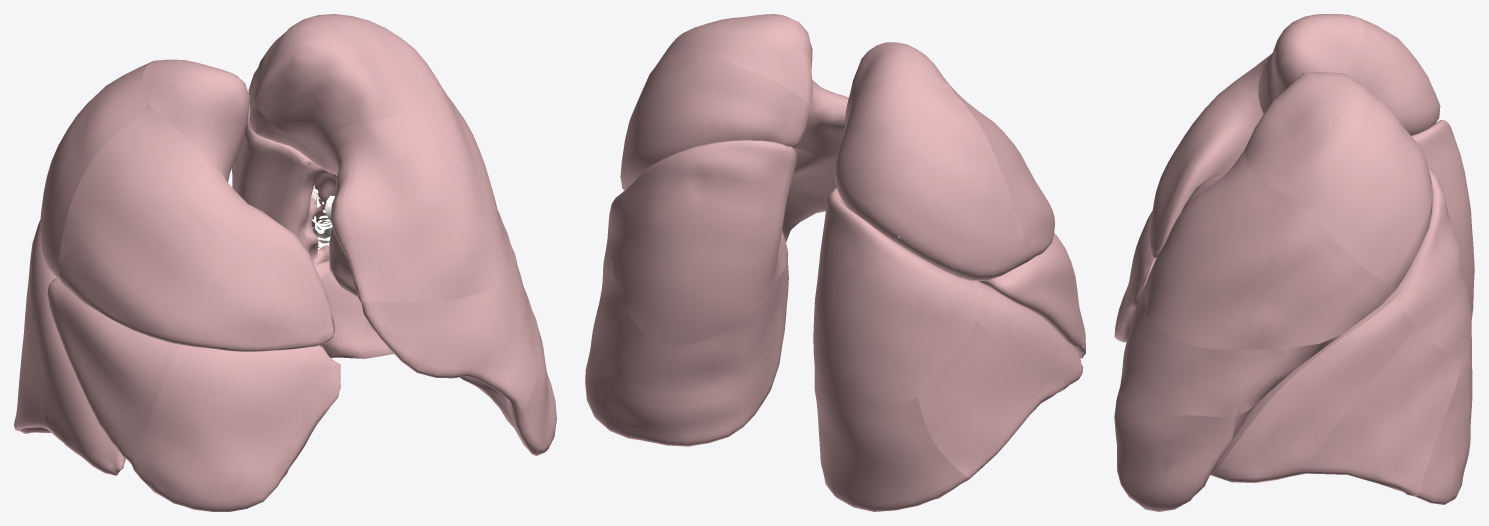
File: lung.glb
3 views of the same model, side by side, from view 1: azimuth 30°, elevation 25°; view 2: azimuth 150°, elevation 25°; view 3: azimuth 270°, elevation 25° (orthographic). The views are drawn at different scales.
Parts seen in each view (by area): view 1: VH_M_hilum_L; view 2: VH_M_hilum_L; view 3: VH_M_hilum_L.
Part boxes in pixels (x1,y1,x2,y2): VH_M_hilum_L: (14,14,556,511); VH_M_hilum_L: (585,14,1085,511); VH_M_hilum_L: (1114,14,1474,511).
Size of the model in its own units: 0.2594 by 0.2291 by 0.1897.
